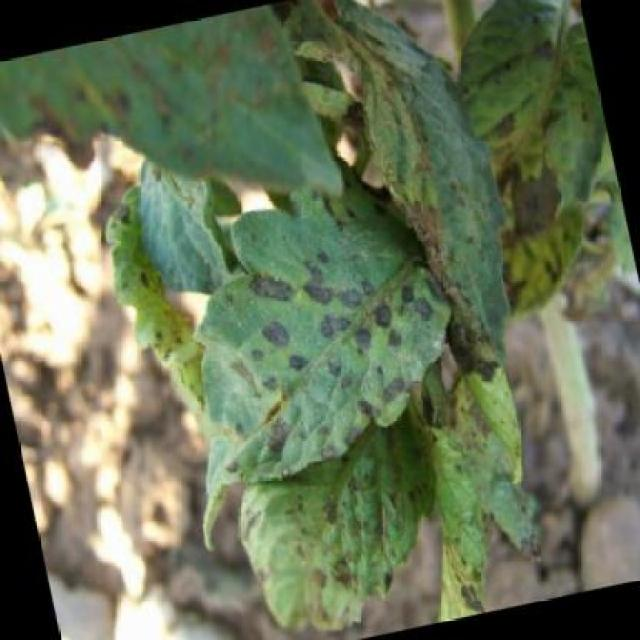Tomato leaf bacterial spot: (170, 229, 464, 480), (226, 442, 449, 629)
